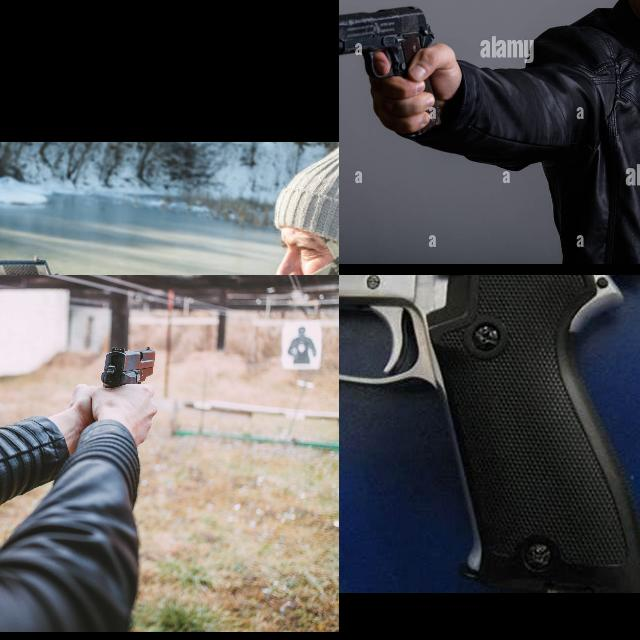handgun: (339, 275, 640, 593), (339, 2, 439, 82), (96, 343, 160, 391)
